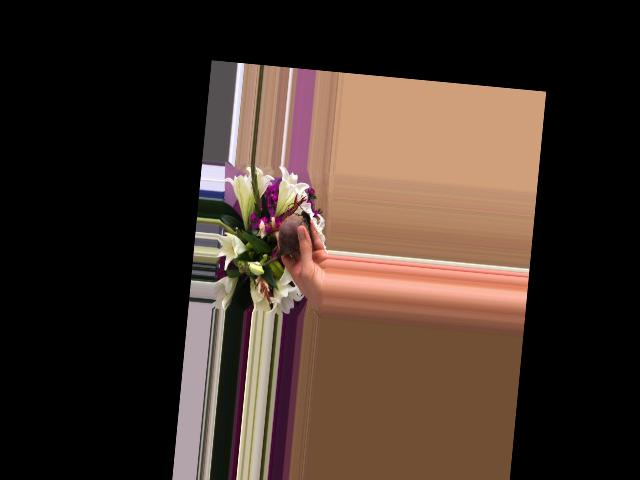beet: (253, 199, 312, 270)
